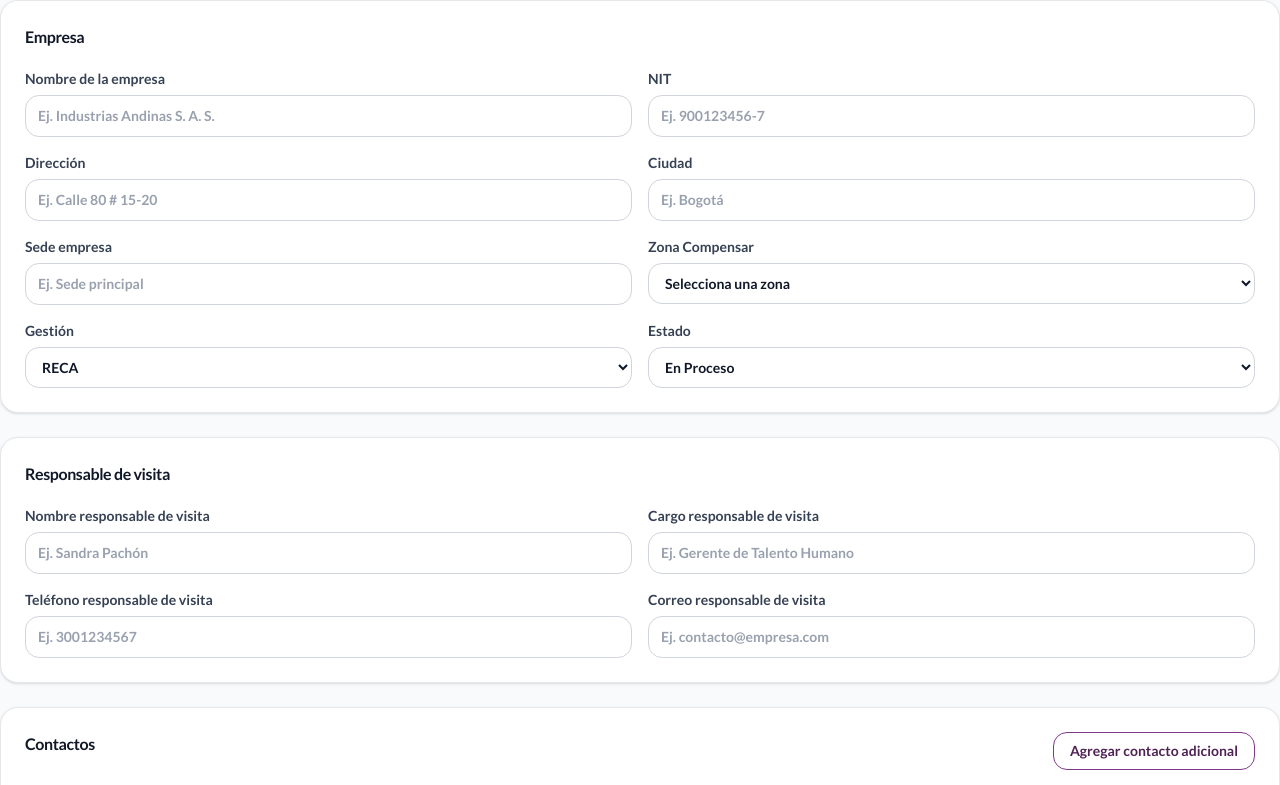
Test: EmpresaForm › adds editable additional contacts
What coordinates should you click on to do the following:
click the button "Agregar contacto adicional"
I would click on:
 (1154, 751)
Its box is 1053,732 -> 1255,770.
(page scrolled)
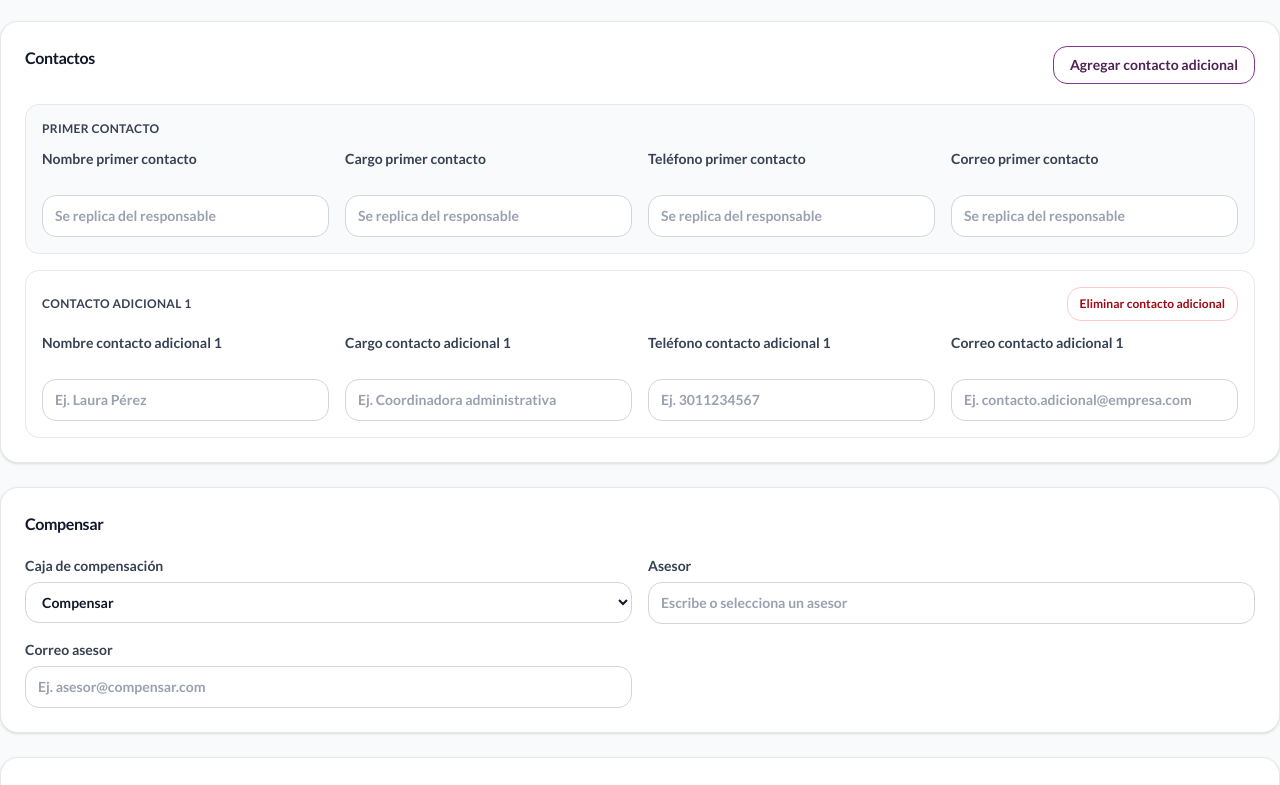
Expected: the field labelled "Nombre contacto adicional 1" is shown, 42,379 -> 329,421
Expected: the field labelled "Cargo contacto adicional 1" is shown, 345,379 -> 632,421
Expected: the field labelled "Teléfono contacto adicional 1" is shown, 648,379 -> 935,421
